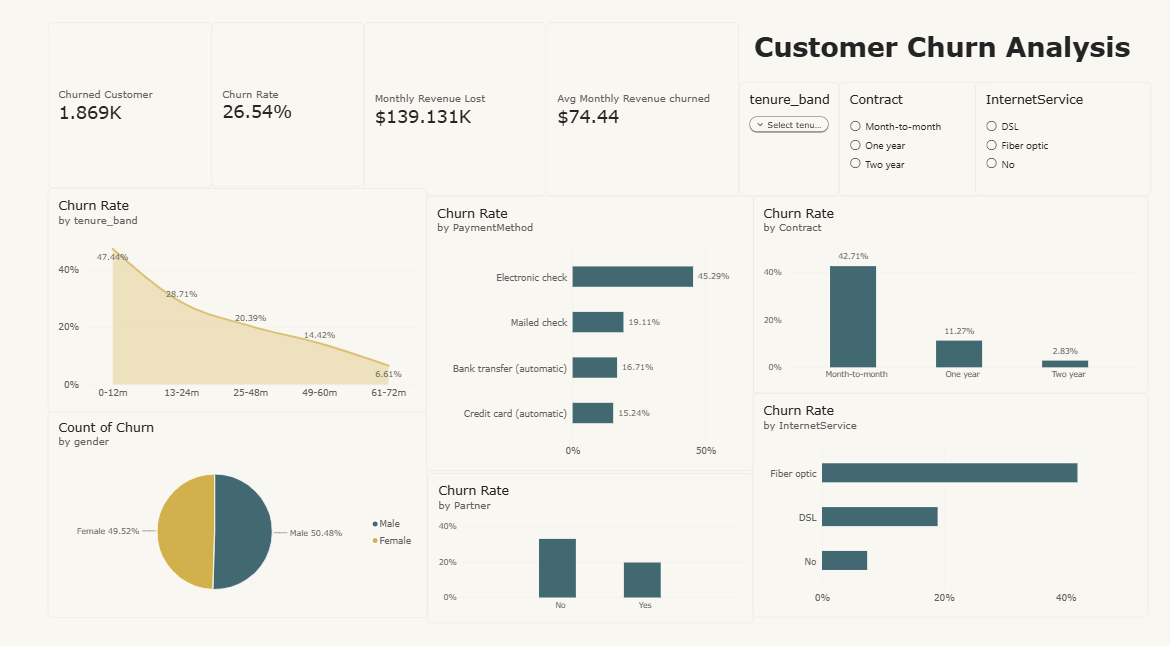

The page's visual inventory and layout, read from the dashboard file:
{"tool":"powerbi","page":{"name":"Churn Analysis summary","canvas":[1920,1080],"ordinal":1},"visuals":[{"type":"textbox","box":[1215,51.7,636.7,85],"z":0},{"type":"pieChart","fields":{"Category":["telco_clean_using_py.gender"],"Y":["CountNonNull(telco_clean_using_py.Churn)"]},"box":[85,660,607.5,332.5],"z":2},{"type":"lineClusteredColumnComboChart","fields":{"Category":["telco_clean_using_py.Partner"],"Y":["measures_.Churn Rate"]},"box":[693.3,761.1,521.1,240],"z":6},{"type":"cardVisual","fields":{"Data":["measures_.Churned Customer"]},"box":[85,40,263.3,266.7],"z":7},{"type":"cardVisual","fields":{"Data":["measures_.Churn Rate"]},"box":[348.3,40,244.4,264.4],"z":8},{"type":"cardVisual","fields":{"Data":["measures_.Montly Revenue Lost"]},"box":[592.9,40,290,278.3],"z":9},{"type":"cardVisual","fields":{"Data":["measures_.Avg Monthly Revenue churned"]},"box":[883.3,40,308.3,278.3],"z":10},{"type":"lineClusteredColumnComboChart","fields":{"Category":["telco_clean_using_py.Contract"],"Y":["measures_.Churn Rate"]},"box":[1214.3,318.6,632.9,315.7],"z":11},{"type":"clusteredBarChart","fields":{"Category":["telco_clean_using_py.PaymentMethod"],"Y":["measures_.Churn Rate"]},"box":[691.7,318.3,523.3,440],"z":12},{"type":"areaChart","fields":{"Category":["telco_clean_using_py.tenure_band"],"Y":["measures_.Churn Rate"]},"box":[85,305,606.7,358.3],"z":13},{"type":"clusteredBarChart","fields":{"Category":["telco_clean_using_py.InternetService"],"Y":["measures_.Churn Rate"]},"box":[1214.3,634.3,632.9,358.6],"z":15},{"type":"listSlicer","fields":{"Values":["telco_clean_using_py.tenure_band"]},"box":[1191.7,136.7,160,181.7],"z":16},{"type":"listSlicer","fields":{"Values":["telco_clean_using_py.Contract"]},"box":[1351.7,136.7,238.3,181.7],"z":17},{"type":"listSlicer","fields":{"Values":["telco_clean_using_py.InternetService"]},"box":[1570,136.7,281.7,181.7],"z":18}]}

Visuals, with their boxes in screenshot pixels (x1, y1, x2, y2), scaled from the page's 1920x1080 canvas onto the 1170x646 screenshot:
textbox: 740/31/1128/82
pieChart - telco_clean_using_py.gender x CountNonNull(telco_clean_using_py.Churn): 52/395/422/594
lineClusteredColumnComboChart - telco_clean_using_py.Partner x measures_.Churn Rate: 422/455/740/599
cardVisual - measures_.Churned Customer: 52/24/212/183
cardVisual - measures_.Churn Rate: 212/24/361/182
cardVisual - measures_.Montly Revenue Lost: 361/24/538/190
cardVisual - measures_.Avg Monthly Revenue churned: 538/24/726/190
lineClusteredColumnComboChart - telco_clean_using_py.Contract x measures_.Churn Rate: 740/191/1126/379
clusteredBarChart - telco_clean_using_py.PaymentMethod x measures_.Churn Rate: 422/190/740/454
areaChart - telco_clean_using_py.tenure_band x measures_.Churn Rate: 52/182/422/397
clusteredBarChart - telco_clean_using_py.InternetService x measures_.Churn Rate: 740/379/1126/594
listSlicer - telco_clean_using_py.tenure_band: 726/82/824/190
listSlicer - telco_clean_using_py.Contract: 824/82/969/190
listSlicer - telco_clean_using_py.InternetService: 957/82/1128/190
